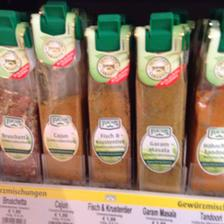Gewuerze: (29, 11, 85, 184), (132, 24, 188, 192), (86, 25, 130, 186), (0, 22, 40, 182)
